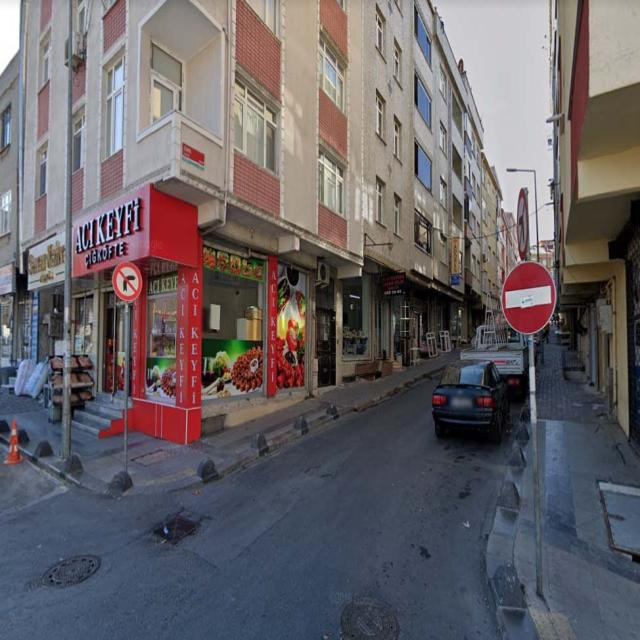girisyok: (502, 264, 556, 334)
sagadonulmez: (112, 261, 142, 302)
soladonulmez: (516, 188, 530, 258)
